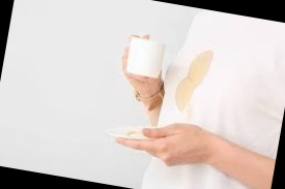coffee: (174, 51, 210, 113)
